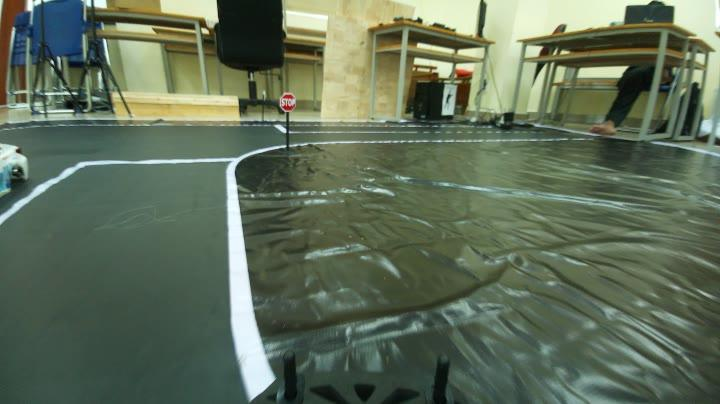stop: (274, 89, 300, 110)
